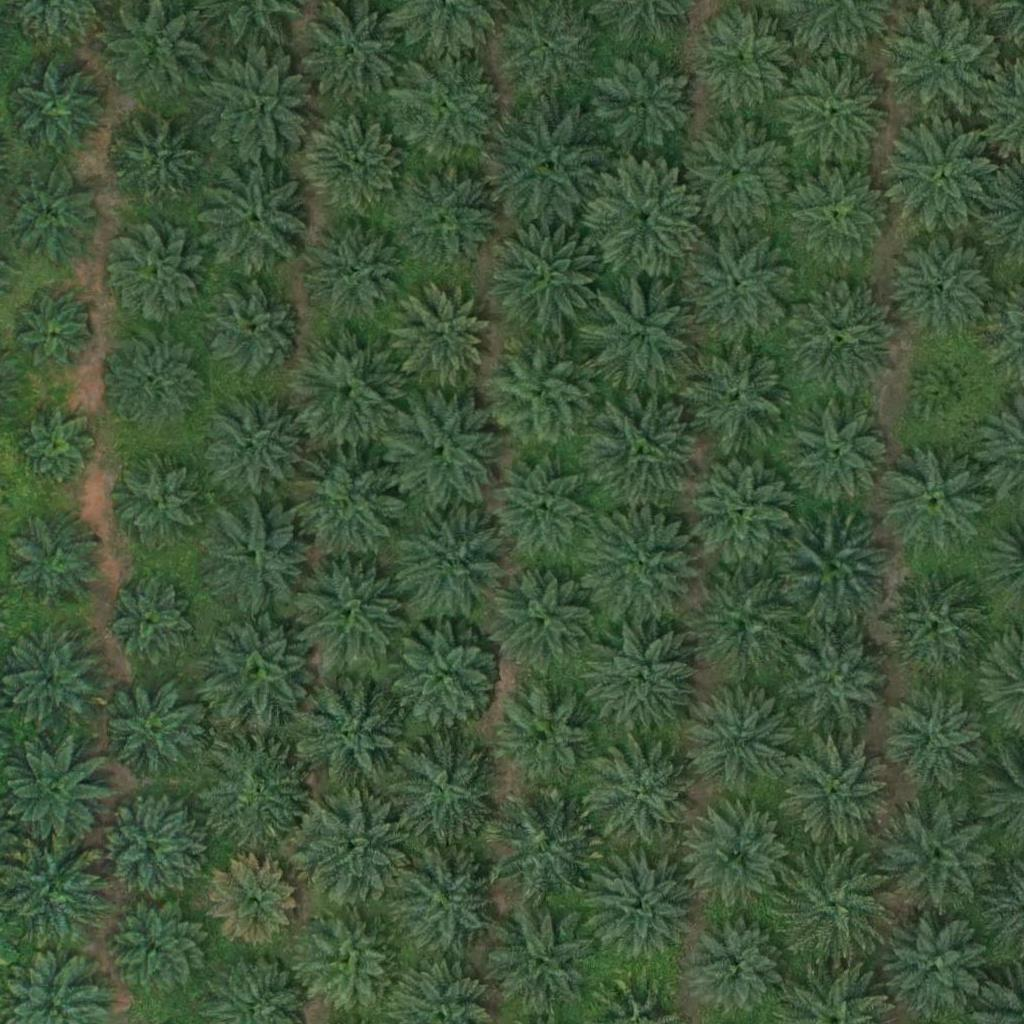Kelapa_Sawit: (887, 119, 1000, 233), (482, 335, 595, 449), (587, 393, 700, 507), (587, 511, 700, 625), (686, 567, 799, 681), (687, 682, 800, 796), (890, 10, 1003, 123), (589, 162, 702, 275), (586, 274, 699, 387), (495, 111, 608, 224), (488, 223, 601, 336), (197, 47, 310, 160), (197, 163, 310, 276), (195, 275, 308, 388), (196, 388, 309, 501), (202, 501, 315, 614), (202, 615, 315, 728), (292, 556, 405, 669), (294, 682, 407, 795), (297, 792, 410, 905), (583, 624, 696, 737), (590, 742, 703, 855), (683, 801, 796, 914), (879, 445, 992, 558), (876, 567, 989, 680), (389, 845, 502, 958), (783, 57, 895, 171), (688, 457, 800, 571), (780, 622, 892, 736), (779, 739, 891, 853), (882, 800, 994, 914), (785, 283, 897, 396), (684, 120, 796, 233), (688, 230, 800, 343), (393, 51, 505, 164), (391, 164, 503, 277), (203, 737, 315, 850), (288, 334, 400, 447), (291, 450, 403, 563), (390, 394, 502, 507), (396, 506, 508, 619), (390, 618, 502, 731), (385, 731, 497, 844), (489, 561, 601, 674), (486, 791, 598, 904), (682, 339, 794, 452), (780, 515, 892, 628), (774, 848, 886, 961), (583, 845, 695, 958), (487, 904, 599, 1017), (394, 283, 494, 384), (302, 115, 402, 216), (307, 221, 407, 322), (104, 111, 204, 212), (5, 58, 105, 159), (7, 507, 107, 608), (2, 632, 102, 733), (108, 457, 208, 558), (101, 680, 201, 781), (498, 684, 598, 785), (790, 404, 890, 505), (302, 910, 402, 1011), (109, 896, 209, 997), (895, 236, 995, 336), (788, 167, 888, 267), (694, 13, 794, 113), (597, 57, 697, 157), (105, 227, 205, 327), (105, 331, 205, 431), (3, 163, 103, 263), (101, 796, 201, 896), (493, 462, 593, 562), (885, 687, 985, 787), (15, 400, 103, 488), (105, 576, 193, 664), (209, 857, 297, 945), (695, 922, 782, 1010), (15, 295, 90, 371), (916, 361, 978, 424)
